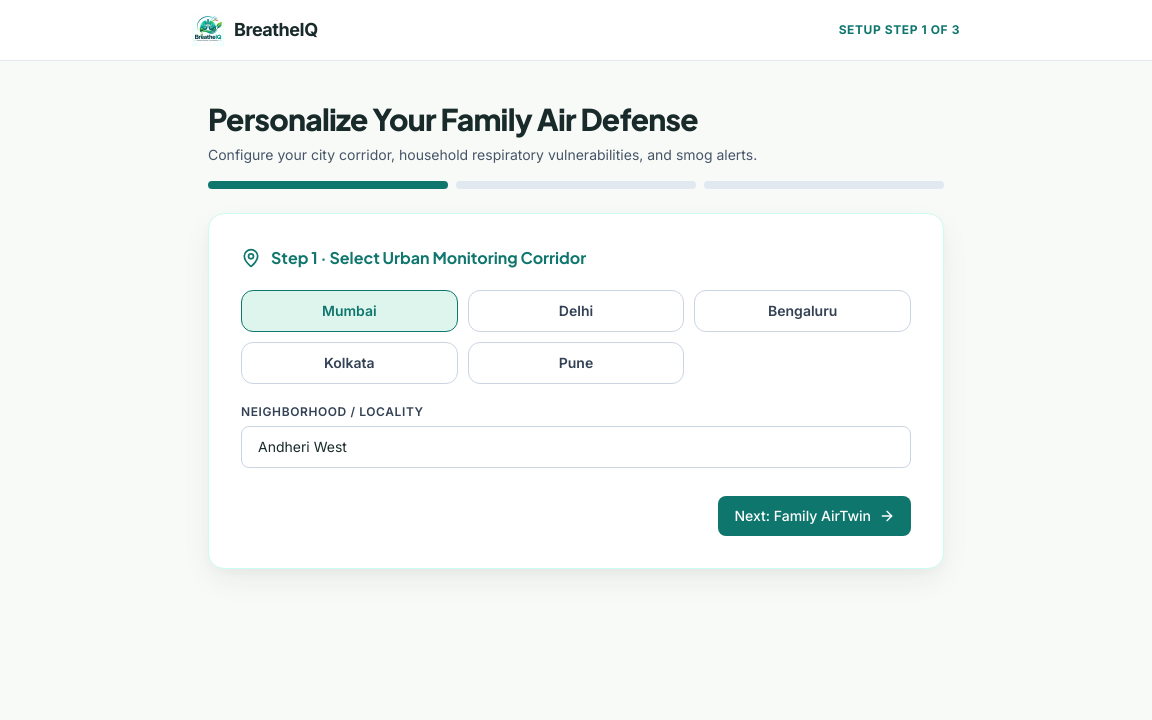
Test: Modular Page & Sub-Component Integration › navigates 3-step OnboardingPage and submits wizard
This screenshot has width=1152, height=720.
Check: the text "Setup Step 1 of 3" is shown, box [839, 22, 960, 38]
Click the button "Next: Family AirTwin" at {"x": 815, "y": 516}, box [718, 496, 911, 536]
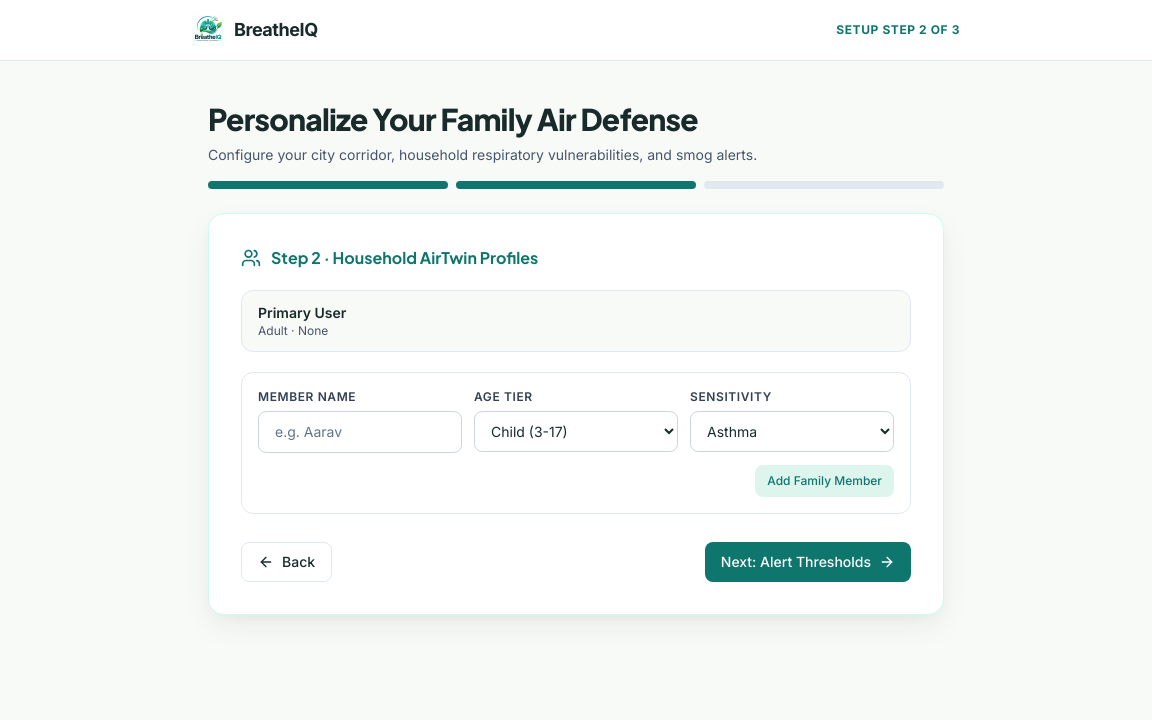
Check: the text "Setup Step 2 of 3" is shown, box [836, 22, 960, 38]
Type "Aarav" into the field labelled "Member Name" at {"x": 360, "y": 432}, box [258, 411, 462, 453]
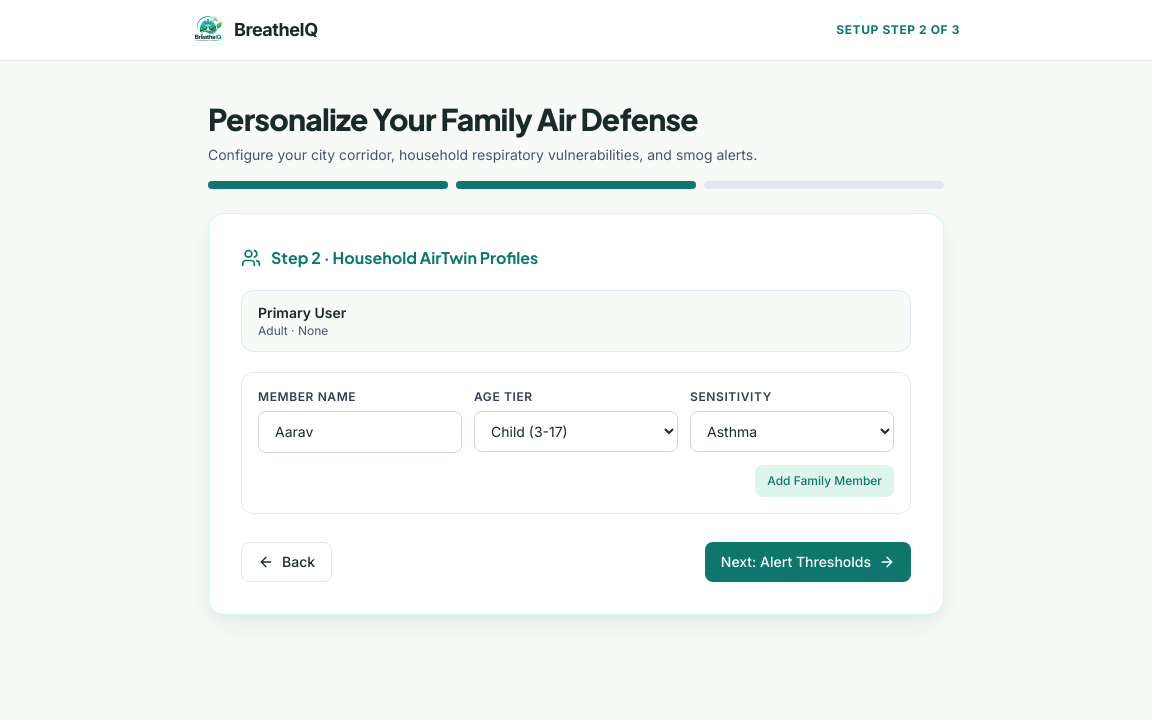
Click the button "Add Family Member" at {"x": 825, "y": 481}, box [755, 465, 894, 497]
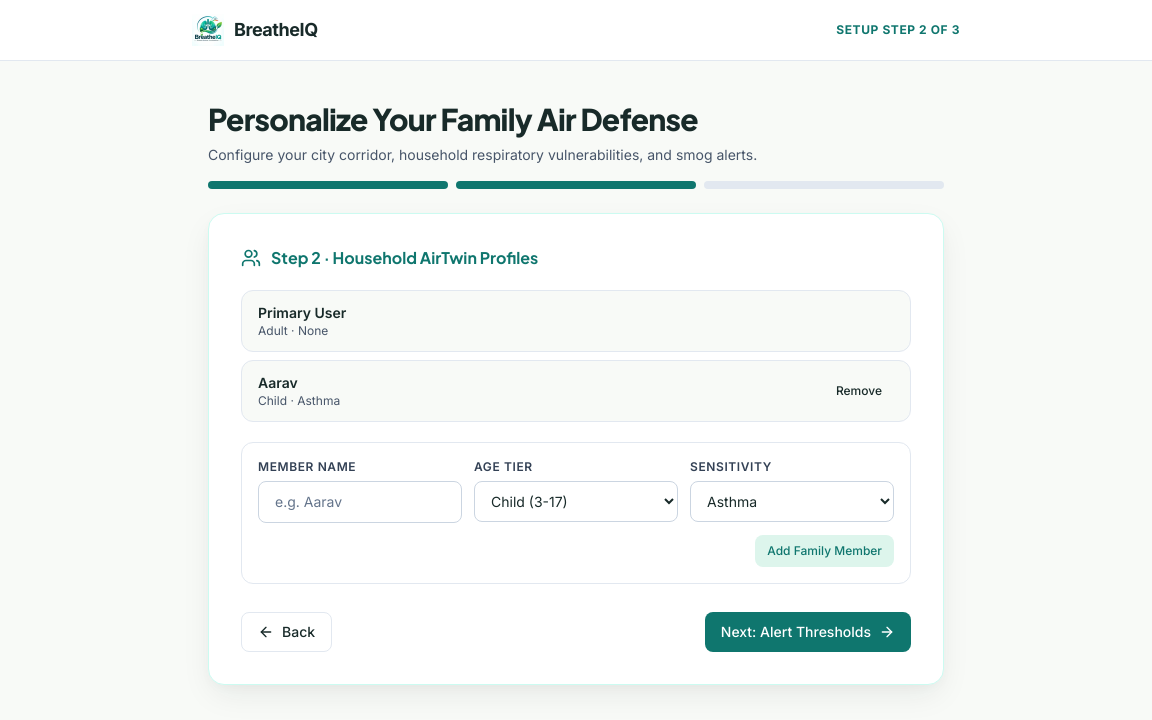
Click the button "Next: Alert Thresholds" at {"x": 808, "y": 632}, box [705, 612, 911, 652]
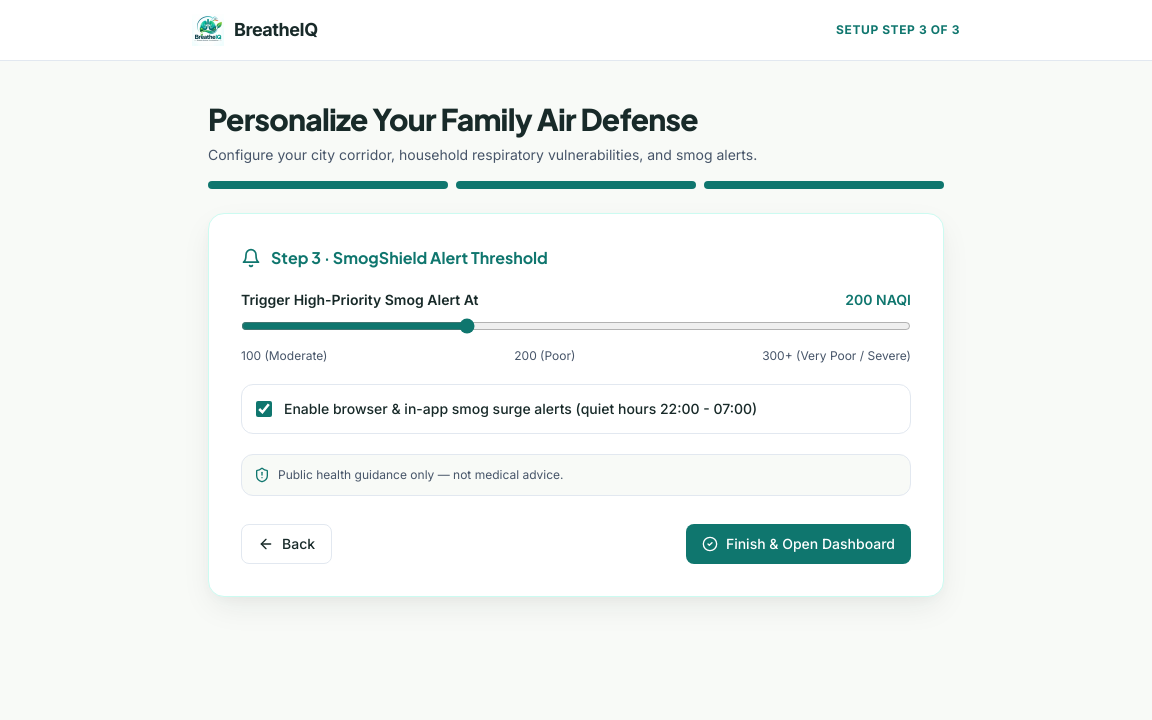
Check: the text "Setup Step 3 of 3" is shown, box [836, 22, 960, 38]
